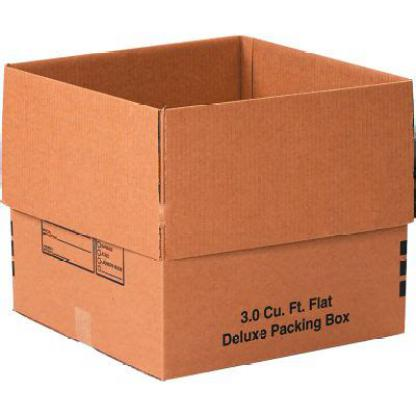box: (5, 32, 415, 384)
